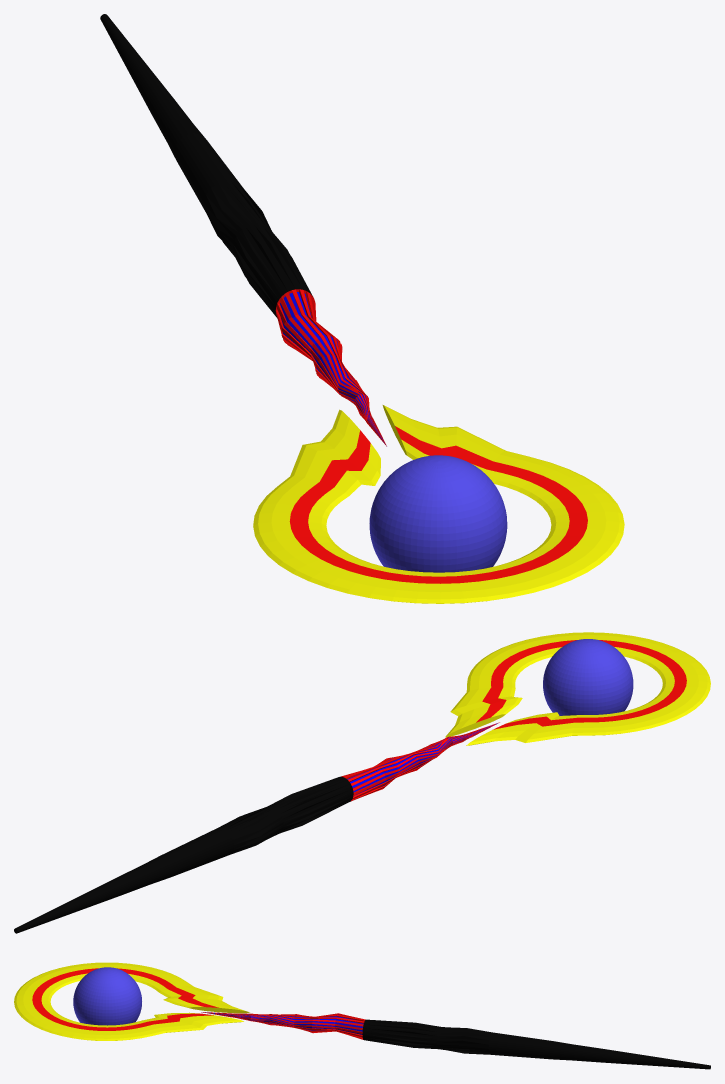
3 views of the same model, one above another, from view 1: azimuth 30°, elevation 25°; view 2: azimuth 150°, elevation 25°; view 3: azimuth 270°, elevation 25° (orthographic). The views are drawn at different scales.
Visible parts, largest first — view 1: トーラス.001, 杖, 球; view 2: トーラス.001, 杖, 球; view 3: 杖, トーラス.001, 球.
Boxes of the visible parts, box(x1,y1,x2,y2) form: トーラス.001: box(253, 405, 624, 603); 杖: box(100, 14, 386, 446); 球: box(369, 455, 507, 572); トーラス.001: box(445, 632, 710, 745); 杖: box(14, 722, 499, 933); 球: box(543, 639, 633, 715); 杖: box(201, 1012, 710, 1069); トーラス.001: box(14, 962, 249, 1040); 球: box(73, 967, 141, 1025).
Bounding box in the file's own units: 27.87 × 7.76 × 77.65.
